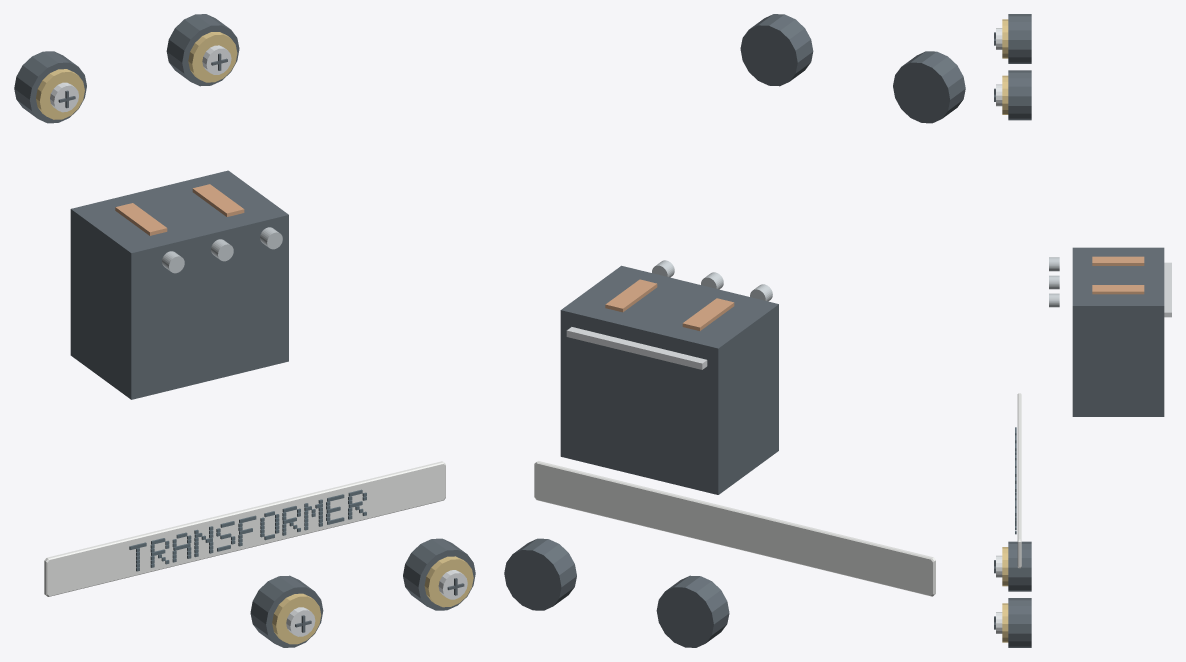
The model's file is transformer.glb.
3 views of the same model, side by side, from view 1: azimuth 30°, elevation 25°; view 2: azimuth 150°, elevation 25°; view 3: azimuth 270°, elevation 25° (orthographic). The views are drawn at different scales.
Parts seen in each view (by area): view 1: transformer-preview; view 2: transformer-preview; view 3: transformer-preview.
Part boxes in pixels (left/top/right/bottom): transformer-preview: left=14, top=14, right=475, bottom=647; transformer-preview: left=504, top=14, right=965, bottom=647; transformer-preview: left=994, top=14, right=1171, bottom=647.
Size of the model in its own units: 2.44 by 3.36 by 1.11.
